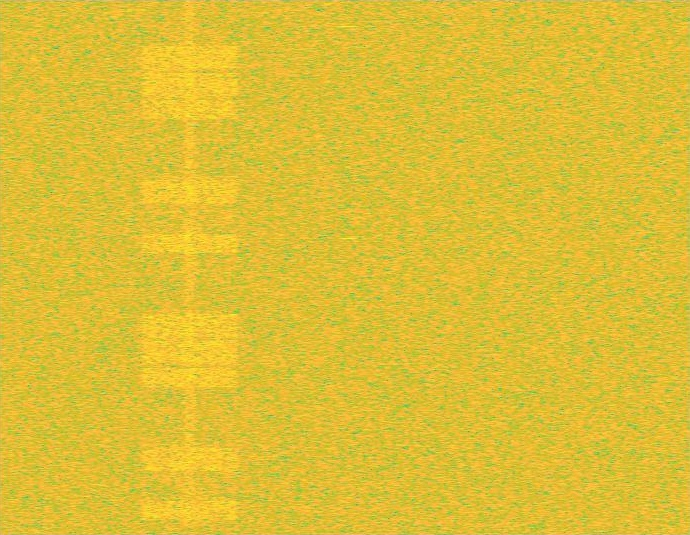DSSS: (183, 0, 197, 534)
LTE: (138, 0, 242, 534)
Radar: (342, 0, 355, 534)
